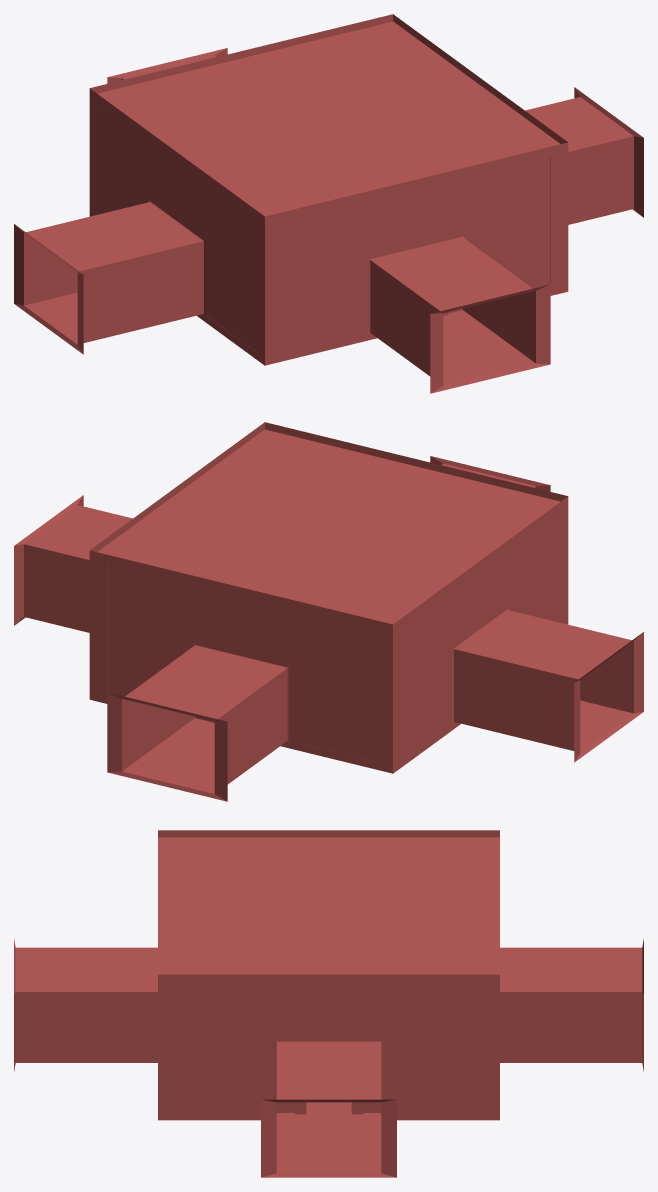
Rendered from Room_Bend.fbx.
3 views of the same model, one above another, from view 1: azimuth 30°, elevation 25°; view 2: azimuth 150°, elevation 25°; view 3: azimuth 270°, elevation 25° (orthographic). The views are drawn at different scales.
Visible parts, largest first — view 1: Room_Exit_4_V3; view 2: Room_Exit_4_V3; view 3: Room_Exit_4_V3.
Boxes of the visible parts, bbox=[...] form: Room_Exit_4_V3: bbox=[14, 14, 643, 393]; Room_Exit_4_V3: bbox=[14, 422, 643, 801]; Room_Exit_4_V3: bbox=[14, 830, 643, 1177].
Size of the model in its own units: 80559 by 20500 by 80435.
